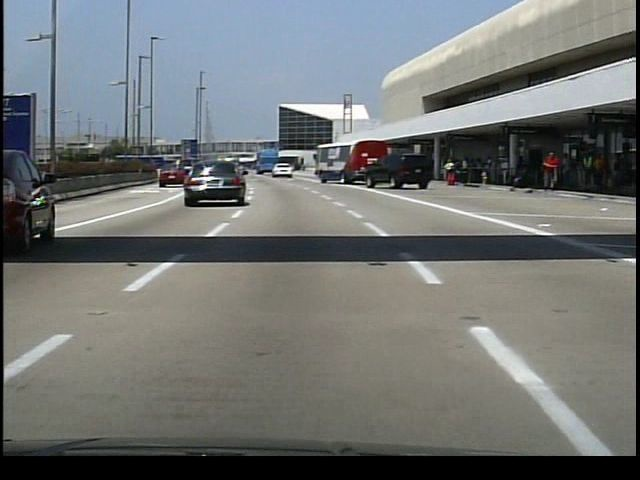person: (536, 148, 562, 193), (606, 155, 623, 192), (442, 157, 458, 188), (581, 150, 593, 190)
